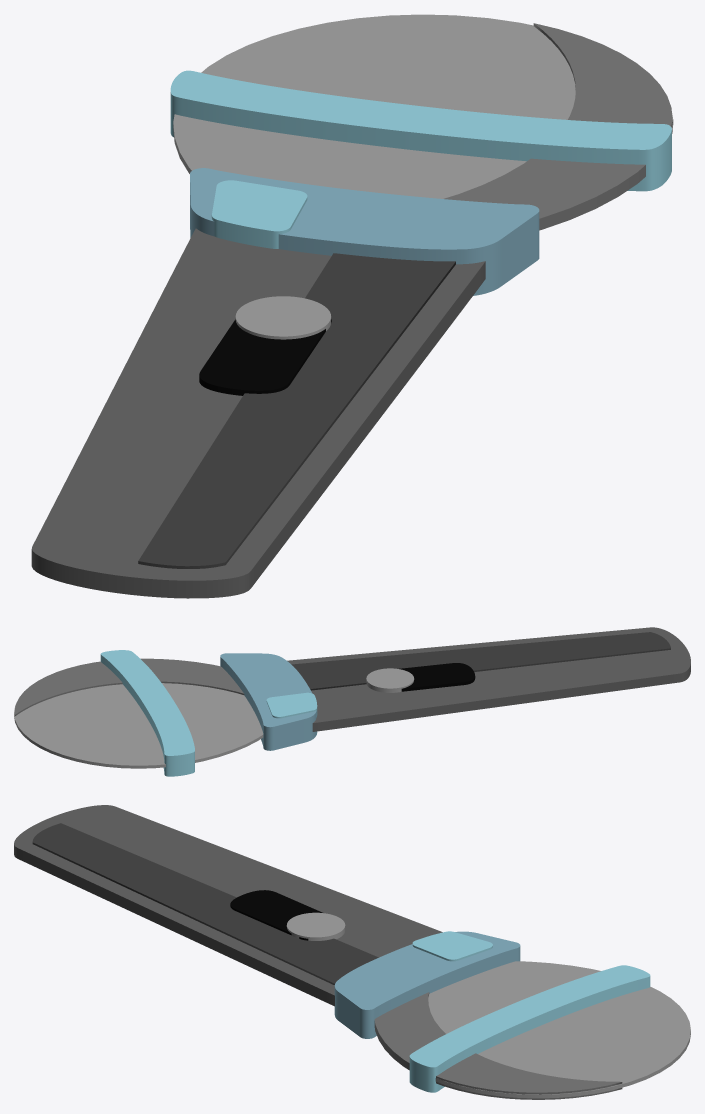
Rendered from emoji_u1f3a4.glb.
3 views of the same model, one above another, from view 1: azimuth 30°, elevation 25°; view 2: azimuth 150°, elevation 25°; view 3: azimuth 270°, elevation 25° (orthographic). The views are drawn at different scales.
Parts seen in each view (by area): view 1: emoji_u1f3a4; view 2: emoji_u1f3a4; view 3: emoji_u1f3a4.
Part boxes in pixels (x1=…): emoji_u1f3a4: x1=31, y1=14, x2=673, y2=598; emoji_u1f3a4: x1=14, y1=627, x2=690, y2=776; emoji_u1f3a4: x1=14, y1=805, x2=690, y2=1099.
Bounding box in the file's own units: 0.0339 × 0.0018 × 0.0339.
